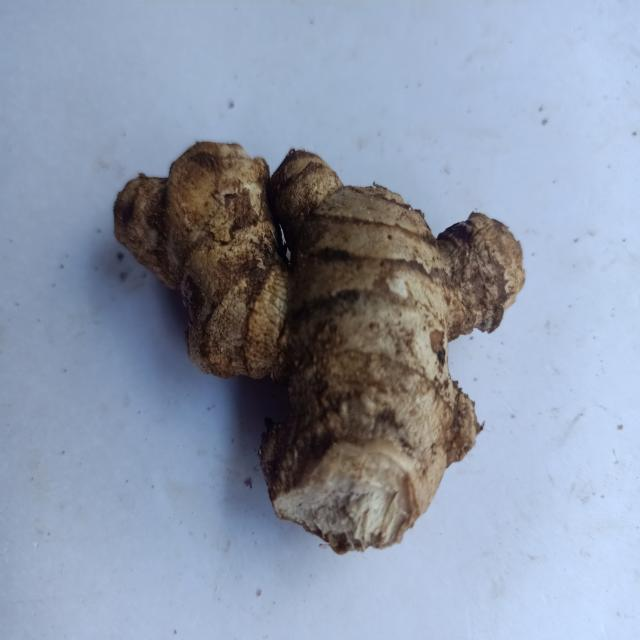Ginger: (113, 141, 525, 554)
